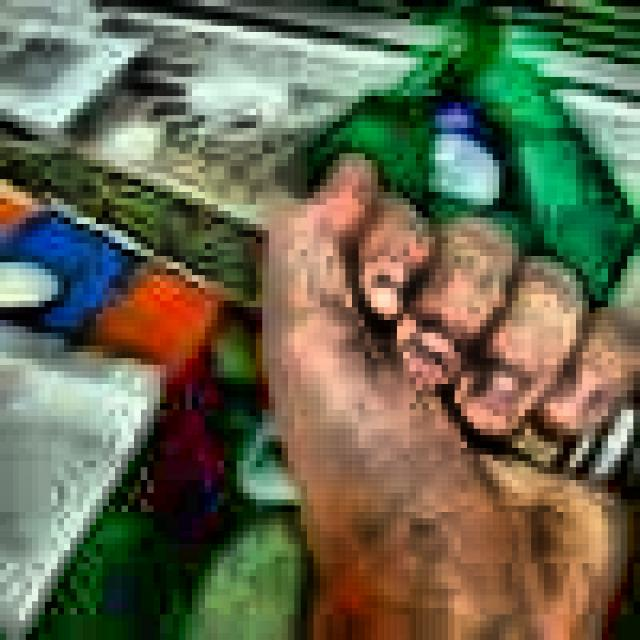knife: (6, 134, 634, 493)
